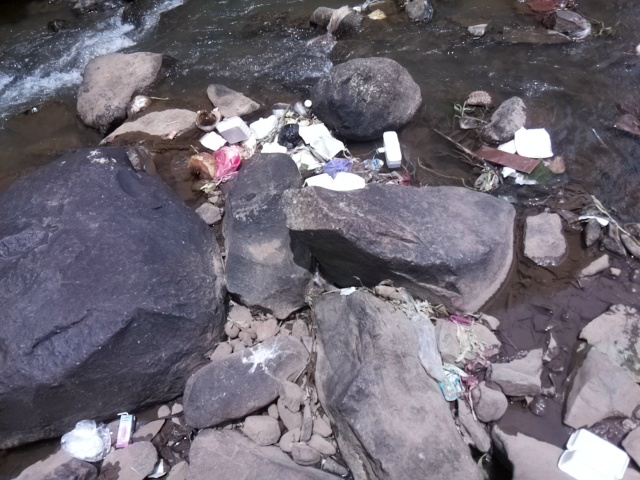Sampah_Plastik: (58, 417, 115, 464), (215, 146, 240, 186), (321, 156, 357, 175), (278, 123, 300, 148)
Sampah_Styrofoam: (556, 425, 631, 480), (299, 118, 347, 159), (506, 124, 561, 157), (200, 117, 255, 148), (307, 169, 362, 192), (248, 113, 278, 153), (378, 131, 408, 170)
